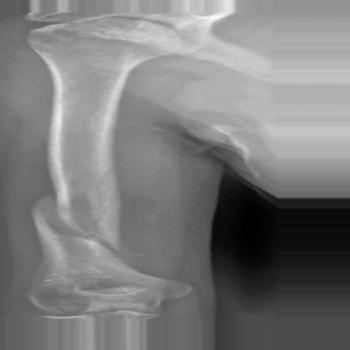Fracture: (25, 190, 136, 257)
